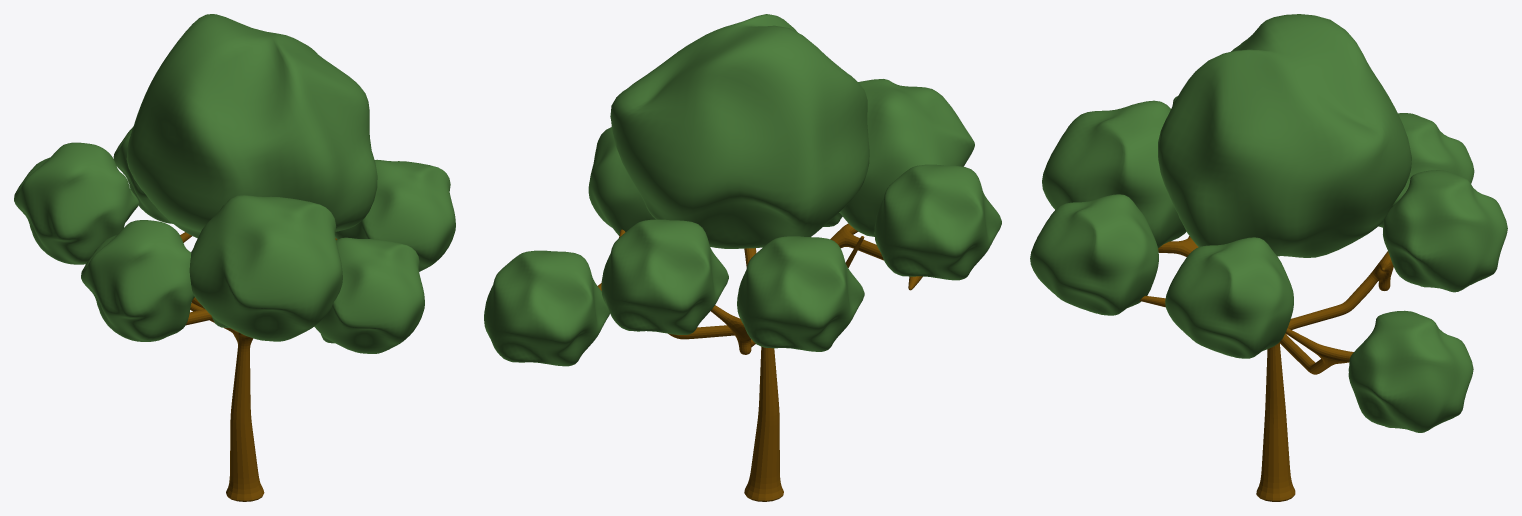
File: Tree.fbx
3 views of the same model, side by side, from view 1: azimuth 30°, elevation 25°; view 2: azimuth 150°, elevation 25°; view 3: azimuth 270°, elevation 25° (orthographic). The views are drawn at different scales.
Parts seen in each view (by area): view 1: Roundcube.033, Roundcube.037, Roundcube.036, Roundcube.035, Roundcube.032, Roundcube.039, Plane.002, Roundcube.034; view 2: Roundcube.033, Roundcube.036, Roundcube.034, Roundcube.035, Roundcube.038, Roundcube.037, Plane.002, Roundcube.039; view 3: Roundcube.033, Roundcube.039, Roundcube.032, Roundcube.037, Roundcube.038, Roundcube.034, Plane.002, Roundcube.035.
Boxes of the visible parts, x1,y1,x2,y2 form: Roundcube.033: [126, 14, 377, 238]; Roundcube.037: [189, 195, 342, 341]; Roundcube.036: [81, 220, 194, 341]; Roundcube.035: [14, 142, 139, 264]; Roundcube.032: [314, 237, 424, 353]; Roundcube.039: [335, 159, 455, 271]; Plane.002: [180, 232, 337, 501]; Roundcube.034: [113, 126, 172, 223]; Roundcube.033: [610, 14, 869, 248]; Roundcube.036: [874, 164, 1001, 280]; Roundcube.034: [601, 219, 728, 334]; Roundcube.035: [737, 236, 864, 351]; Roundcube.038: [484, 250, 609, 366]; Roundcube.037: [839, 79, 974, 236]; Plane.002: [598, 223, 922, 501]; Roundcube.039: [588, 127, 655, 235]; Roundcube.033: [1158, 14, 1411, 257]; Roundcube.039: [1165, 237, 1293, 358]; Roundcube.032: [1030, 194, 1158, 315]; Roundcube.037: [1042, 100, 1186, 248]; Roundcube.038: [1348, 310, 1473, 432]; Roundcube.034: [1383, 170, 1507, 292]; Plane.002: [1139, 236, 1393, 501]; Roundcube.035: [1378, 113, 1474, 227].
Bounding box in the file's own units: 1127 × 1306 × 1206.
